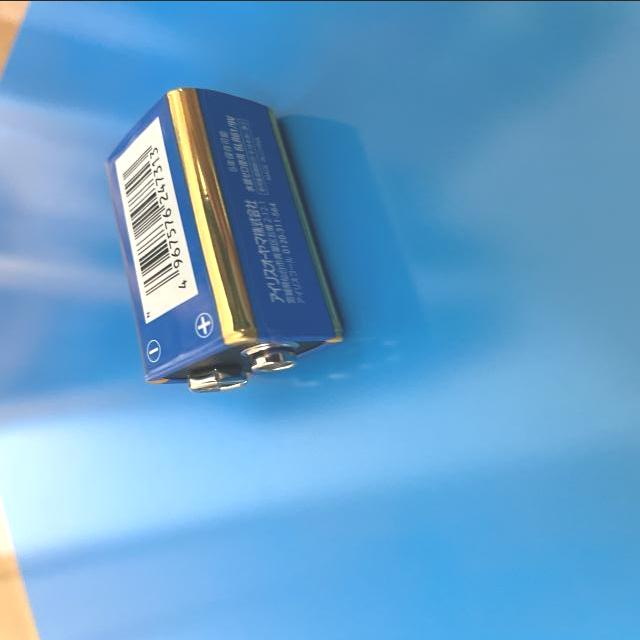9V: (101, 82, 345, 393)
